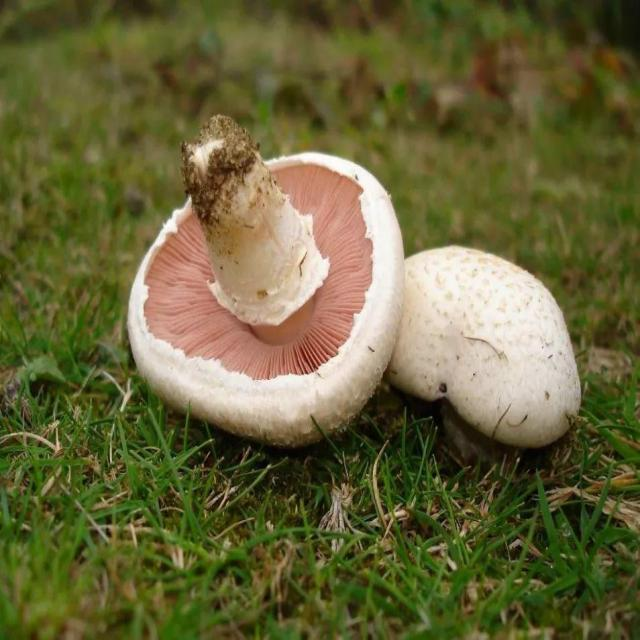Agaricus bisporus: (130, 115, 403, 436), (389, 240, 584, 447)
